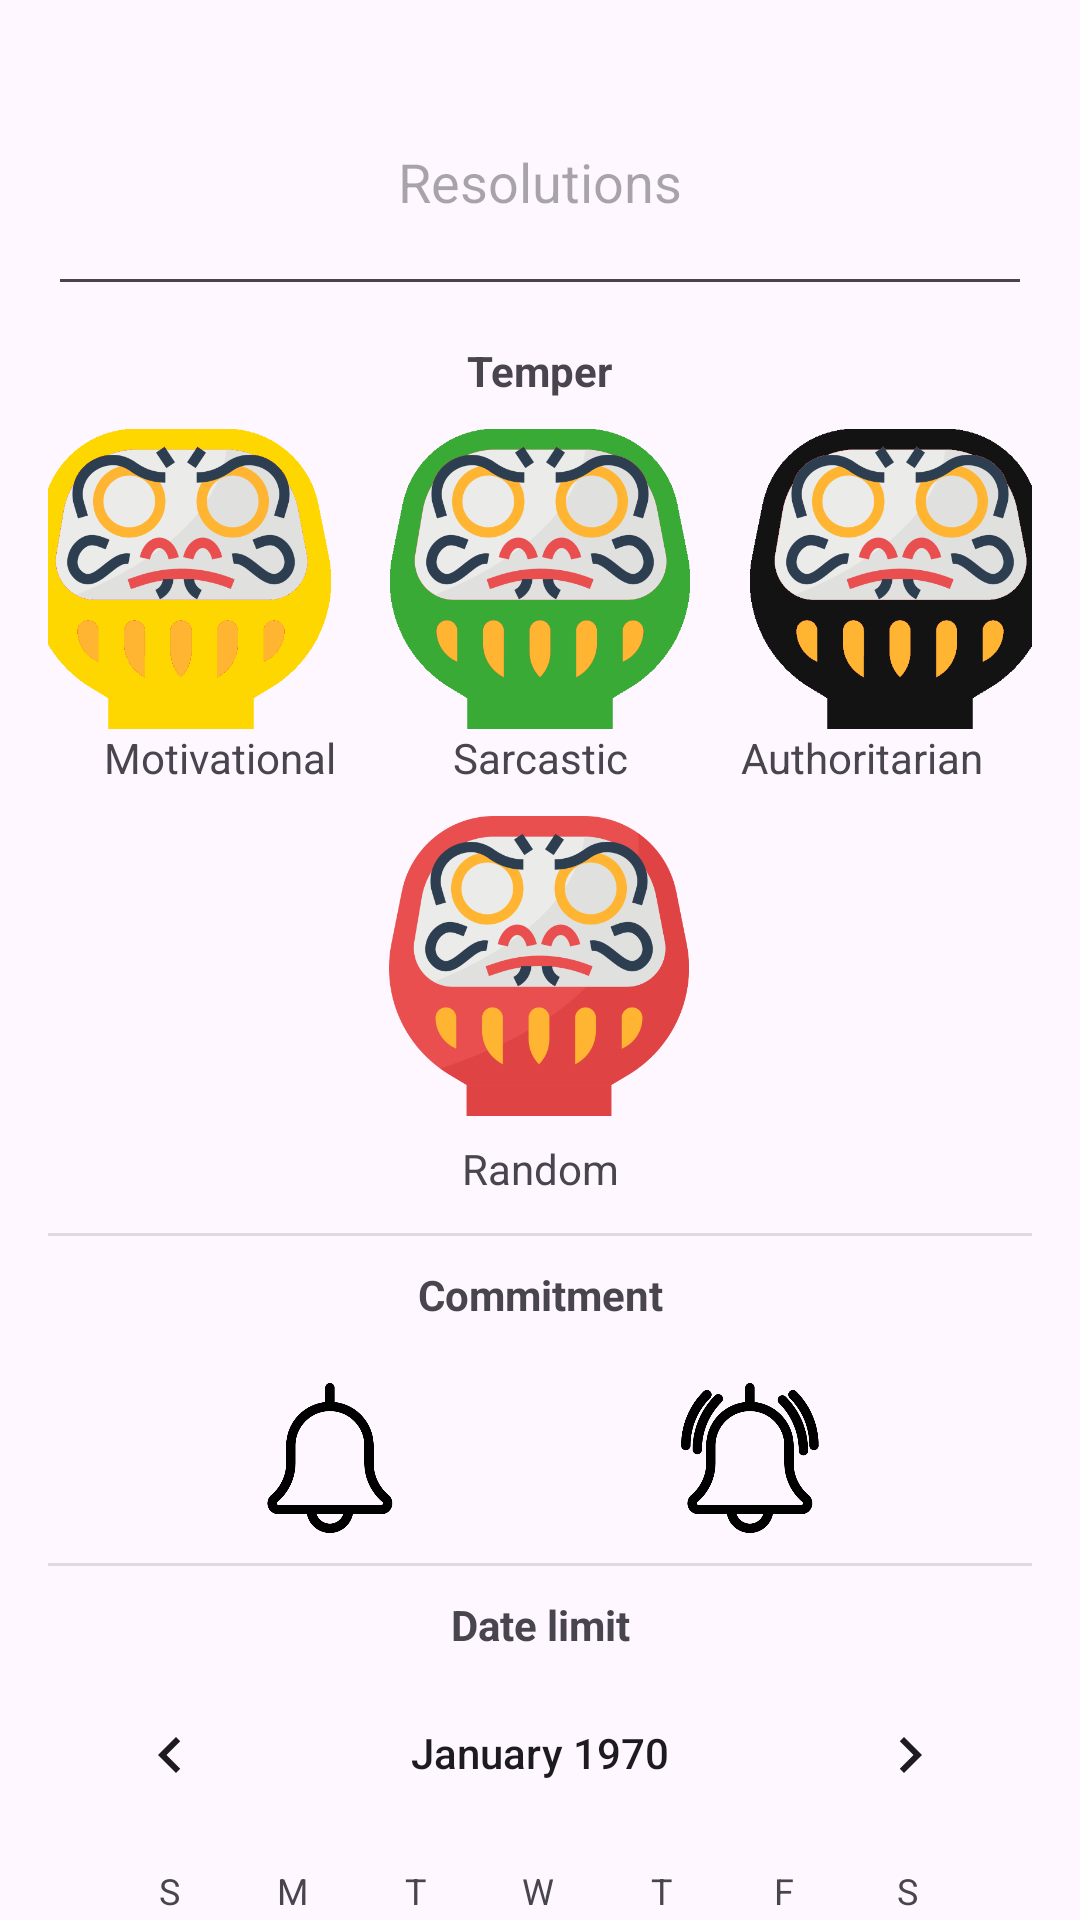

Screen size 1080*1920. Icon name, then its center in pixels as [x,y]:
bell: [330,1458], [750,1458]
daruma: [540,579], [891,579], [539,966]
daruma gold: [189,579]
